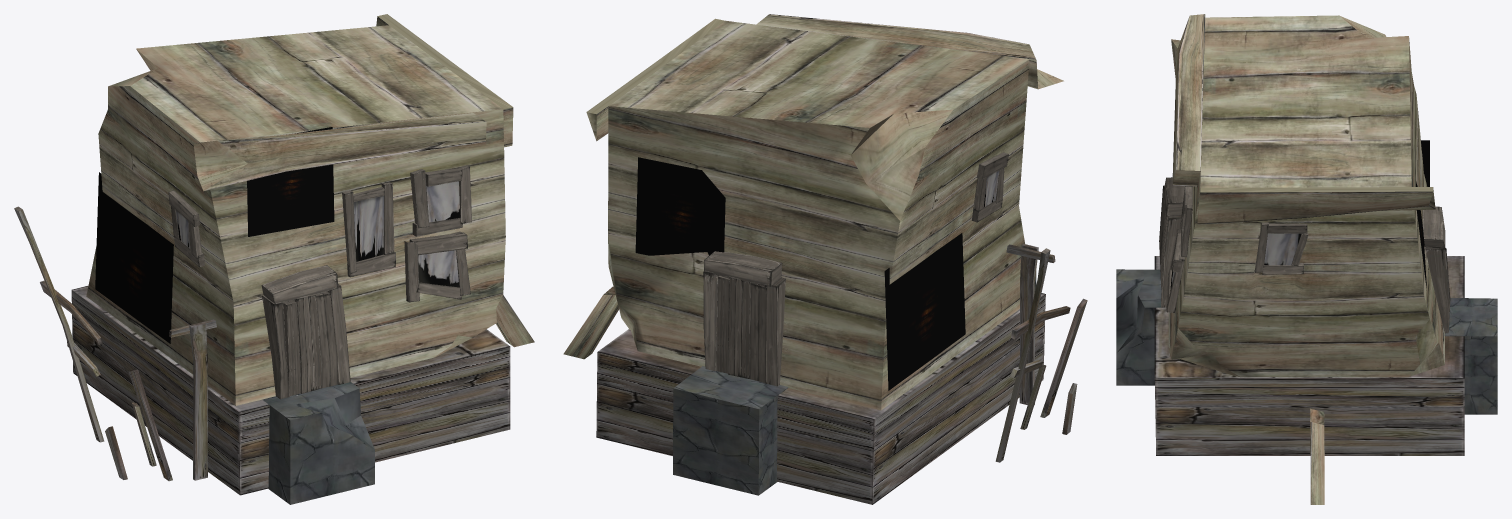
Rendered from pir_m_bld_shn_houseB_destroyed.fbx.
The picture shows the model from 3 angles, left to right: view 1: azimuth 30°, elevation 25°; view 2: azimuth 150°, elevation 25°; view 3: azimuth 270°, elevation 25°; orthographic projection. The views are drawn at different scales.
Parts seen in each view (by area): view 1: shanty_tavern_polySurface147, woodBase, polySurface143, step, hole_0, hole_1, door_left, fence_post6, door_frame_1, win_certurn.004, woodsupport, polySurface145 (+14 smaller); view 2: shanty_tavern_polySurface147, woodBase, step1, hole_0, hole_2, polySurface143, door_left_2, door_frame_3.001, polySurface145, door_frame_1.001, pasted__support_geo2, fence_post6 (+3 smaller); view 3: shanty_tavern_polySurface147, woodBase, polySurface145, step, polySurface143, step1, pasted__support_geo2, door_frame_2.001, win_certurn.002, door_frame_3.001, door_frame_2, door_frame_1 (+3 smaller).
Boxes of the visible parts, <box> form: shanty_tavern_polySurface147: <box>86,25,505,405</box>; woodBase: <box>71,286,510,495</box>; polySurface143: <box>193,113,486,191</box>; step: <box>262,382,374,504</box>; hole_0: <box>95,172,173,343</box>; hole_1: <box>247,127,334,236</box>; door_left: <box>283,292,337,396</box>; fence_post6: <box>189,321,207,480</box>; door_frame_1: <box>261,265,338,303</box>; win_certurn.004: <box>353,196,383,261</box>; woodsupport: <box>14,206,104,442</box>; polySurface145: <box>376,14,513,147</box>; shanty_tavern_polySurface147: <box>608,20,1029,410</box>; woodBase: <box>596,291,1045,504</box>; step1: <box>673,366,788,495</box>; hole_0: <box>884,233,965,390</box>; hole_2: <box>635,157,725,255</box>; polySurface143: <box>756,14,1063,89</box>; door_left_2: <box>716,275,766,382</box>; door_frame_3.001: <box>704,251,782,286</box>; polySurface145: <box>586,18,724,141</box>; door_frame_1.001: <box>765,277,785,386</box>; pasted__support_geo2: <box>563,286,618,359</box>; fence_post6: <box>1019,244,1038,405</box>; shanty_tavern_polySurface147: <box>1168,15,1444,377</box>; woodBase: <box>1154,256,1464,455</box>; polySurface145: <box>1197,187,1435,225</box>; step: <box>1116,269,1161,385</box>; polySurface143: <box>1171,14,1205,186</box>; step1: <box>1444,298,1497,414</box>; pasted__support_geo2: <box>1310,408,1324,504</box>; door_frame_2.001: <box>1425,247,1450,333</box>; win_certurn.002: <box>1264,233,1301,265</box>; door_frame_3.001: <box>1422,206,1445,248</box>; door_frame_2: <box>1161,215,1181,307</box>; door_frame_1: <box>1164,177,1184,216</box>.
Bounding box in the file's own units: 4898 × 3262 × 3556.
3 materials, 3 textured.
